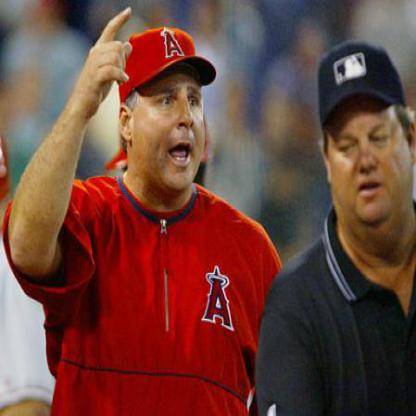face: (327, 68, 410, 240), (131, 30, 211, 197)
